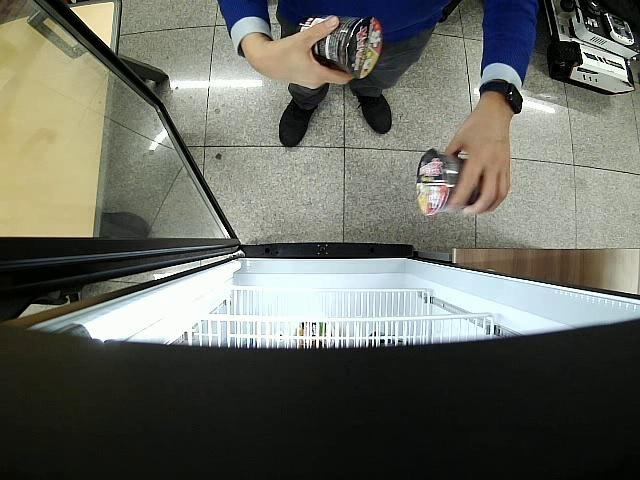08_buldak_S: (300, 16, 382, 77), (416, 148, 481, 216)
